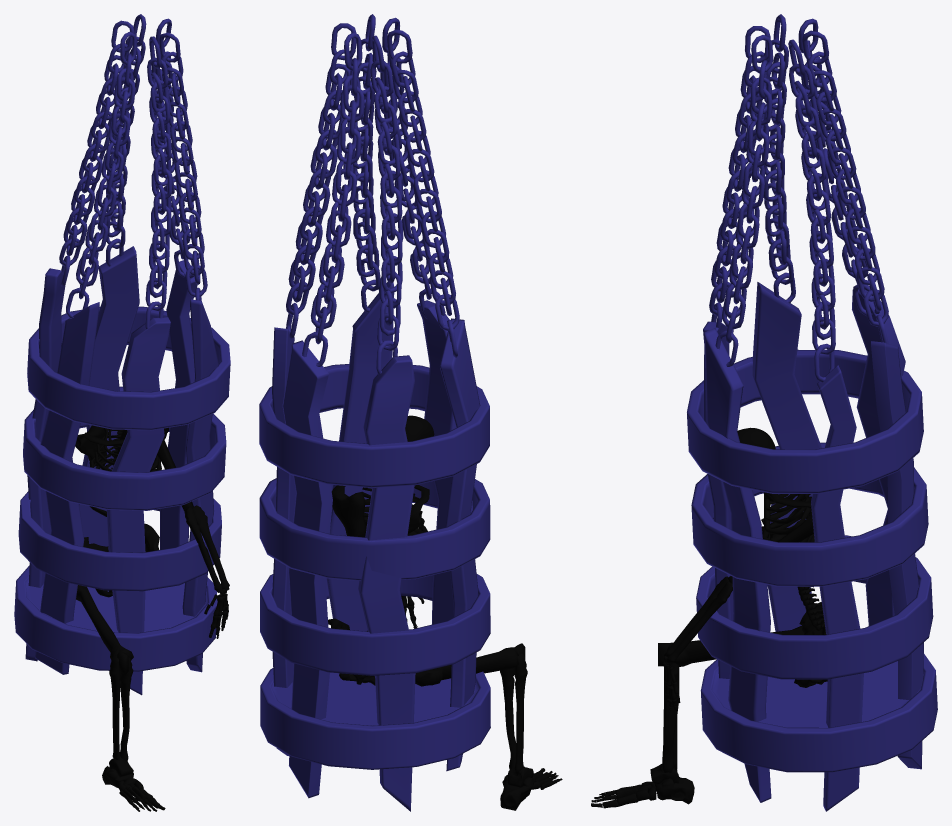
The model's file is Skeleton_In_Cage.fbx.
3 renders of one model, left to right at view 1: azimuth 30°, elevation 25°; view 2: azimuth 150°, elevation 25°; view 3: azimuth 270°, elevation 25°, orthographic. The views are drawn at different scales.
Parts seen in each view (by area): view 1: polySurface294 (×2); view 2: polySurface294 (×2); view 3: polySurface294 (×2).
Part boxes in pixels (x1,y1,x2,y2): polySurface294 (×2): (14, 14, 230, 811); polySurface294 (×2): (259, 14, 562, 811); polySurface294 (×2): (591, 14, 937, 811).
Size of the model in its own units: 79.99 by 295 by 113.
